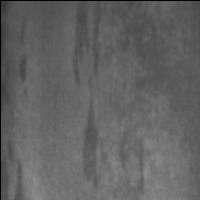inclusion: (70, 3, 108, 195), (12, 13, 40, 101), (114, 127, 148, 197), (1, 136, 30, 200)
